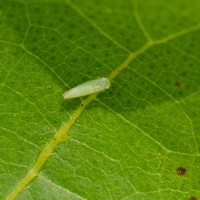insect: (63, 78, 109, 98)
